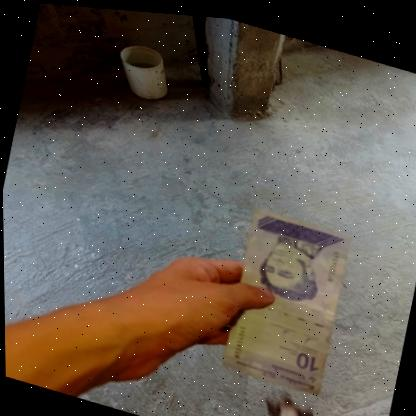ten-front-vef: (218, 198, 352, 393)
